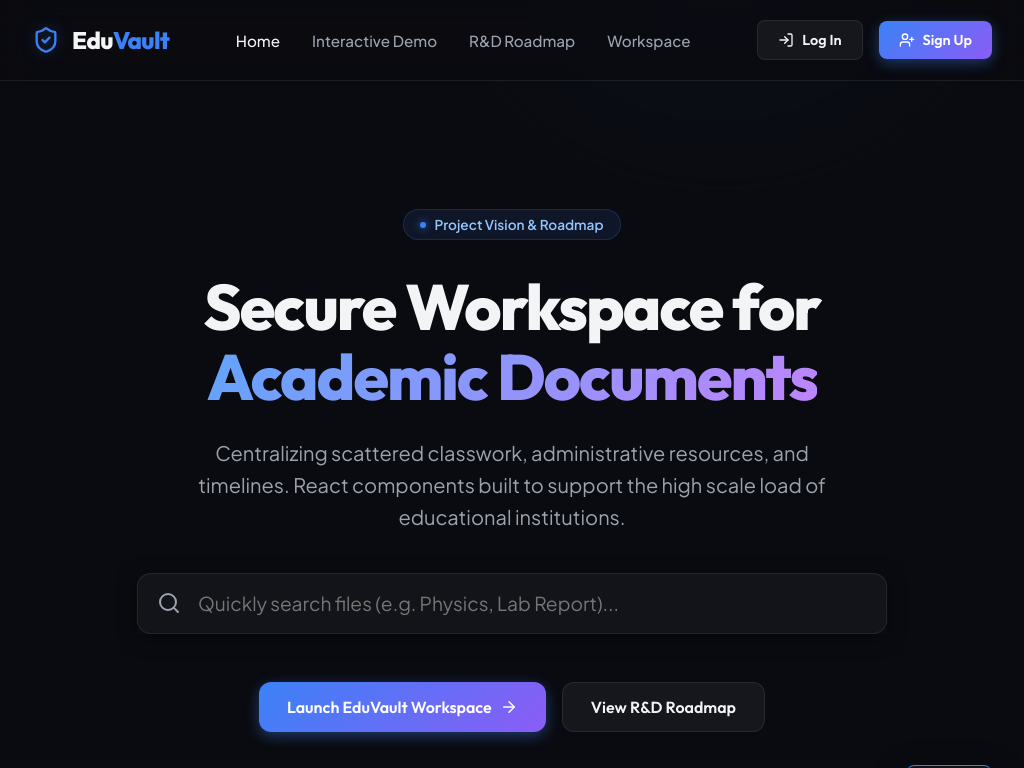
EduVault App Rendering & Navigation tests › should show inline folder card in Suggested folders when clicking New folder
// Navigate to Workspace
Click the link "Workspace".
click(649, 40)  # box left=607, top=30, right=691, bottom=50
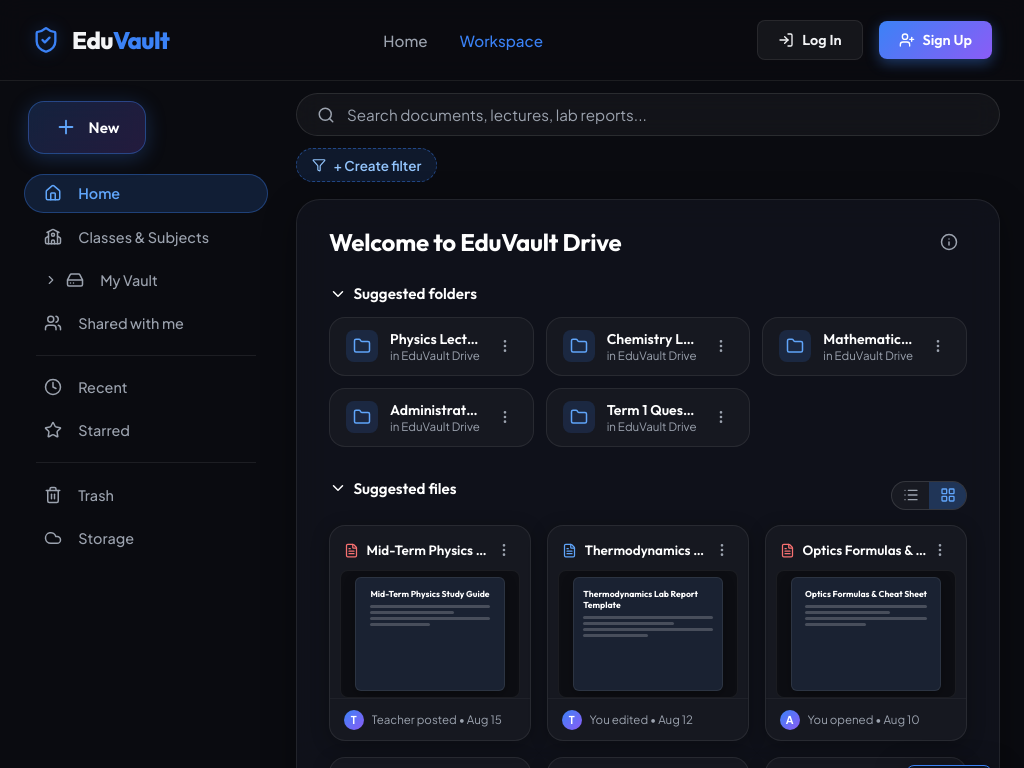
// Open New dropdown
Click the button "New".
click(87, 127)  # box left=28, top=101, right=146, bottom=154
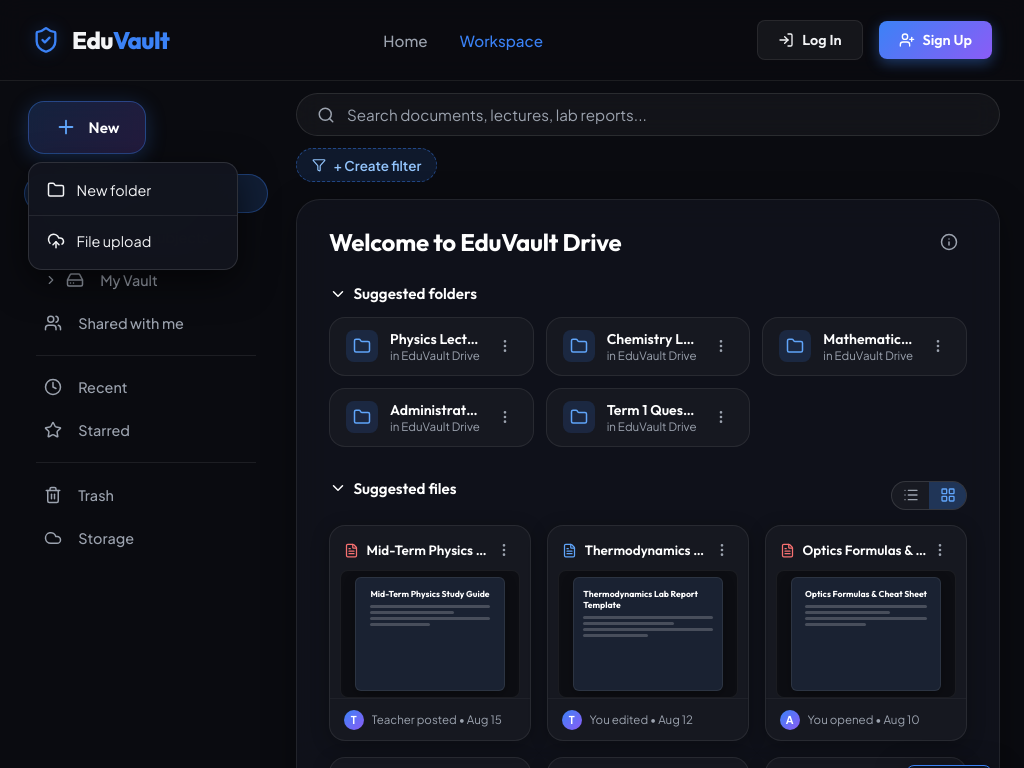
// Click New folder
Click the button "New folder".
click(133, 190)  # box left=29, top=171, right=237, bottom=210
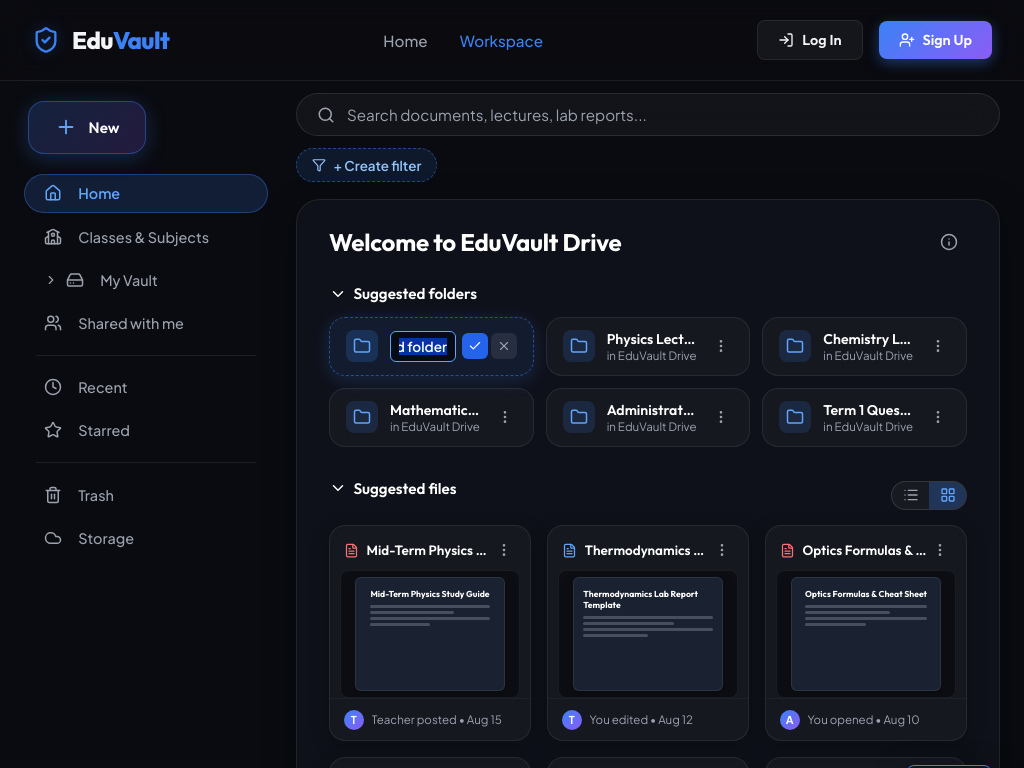
Expected: the field with placeholder "Folder name" is shown
// Type a new name and submit
Replace the text in the field with placeholder "Folder name" with "Biology Field Work" at [423, 346], box left=390, top=331, right=456, bottom=362
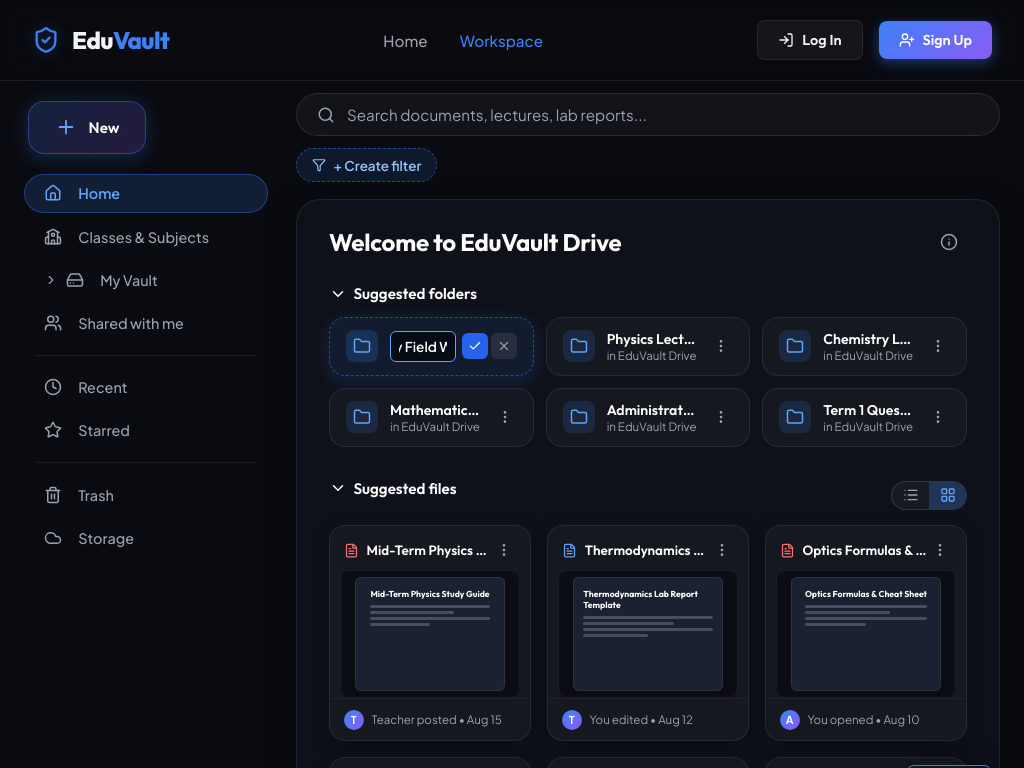
Click the button titled "Create folder".
click(475, 346)  # box left=462, top=333, right=488, bottom=359
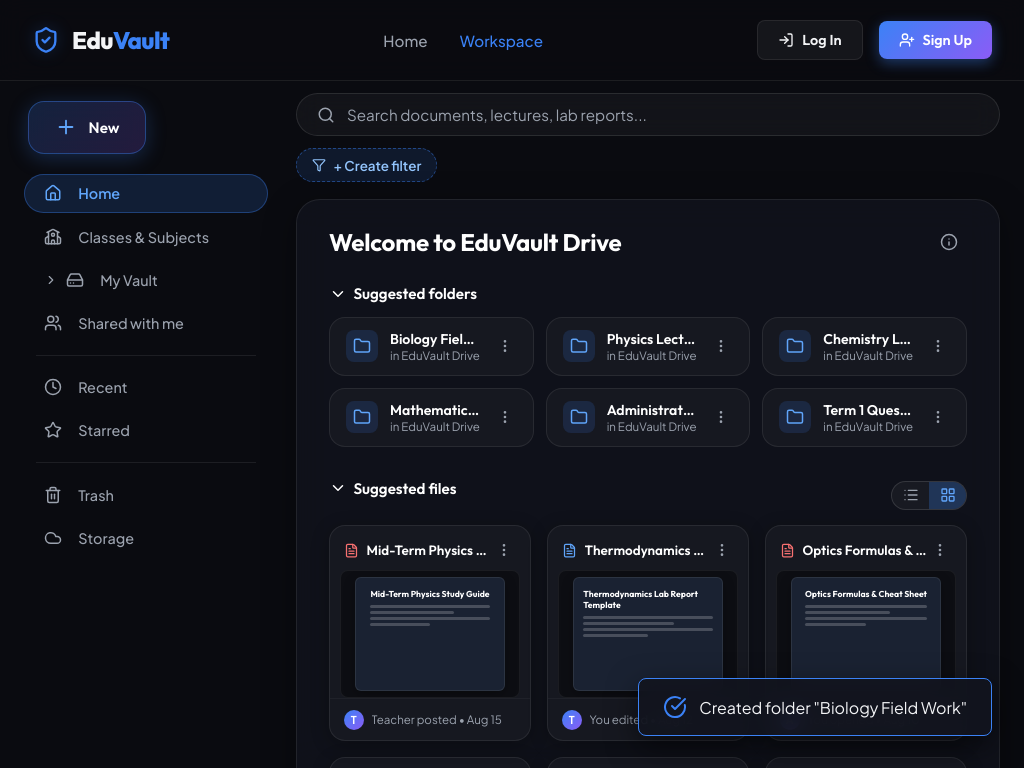
Expected: the text "Biology Field Work" is shown, left=390, top=330, right=481, bottom=348
